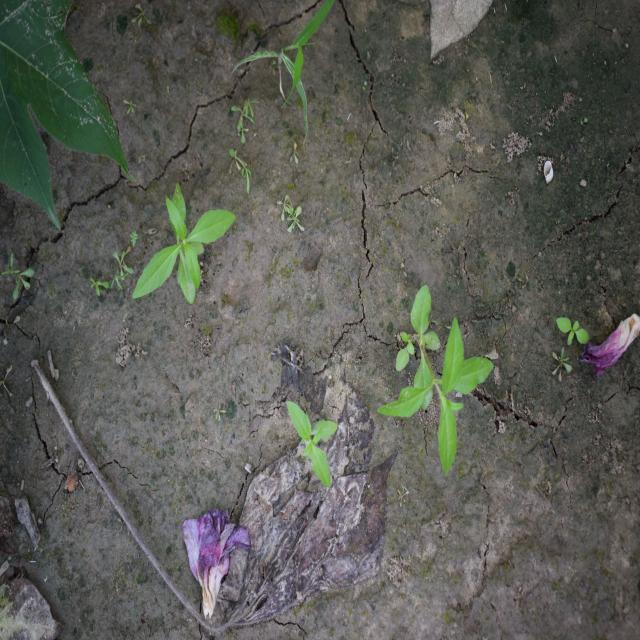Carpetweed: (87, 243, 134, 300), (1, 252, 36, 302), (230, 97, 261, 144), (228, 147, 253, 194), (276, 194, 305, 234), (550, 344, 574, 384)
Eclipta: (376, 284, 496, 478), (132, 183, 236, 305), (286, 400, 339, 491), (556, 314, 590, 351)
